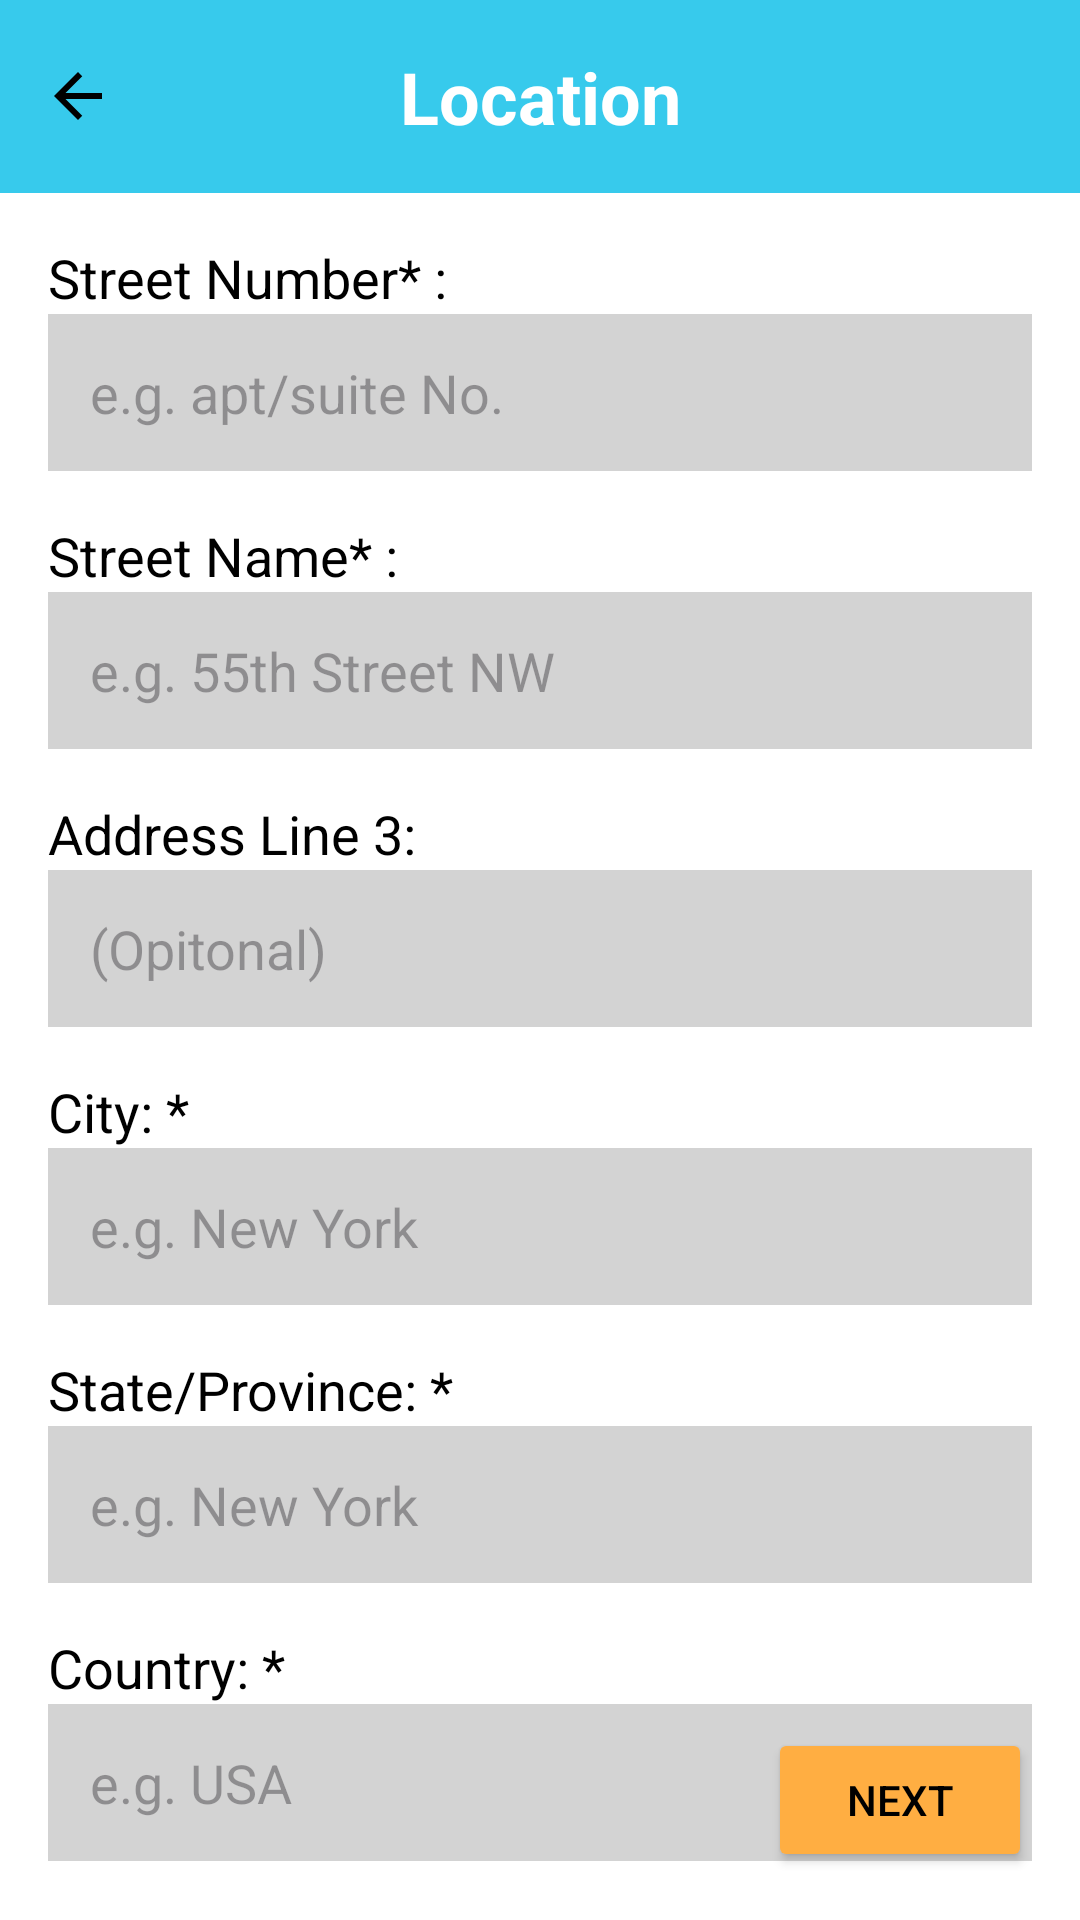

Named icons in this screenshot (1080 × 1920) and their centers, (x,y):
go back to previous page: (78,96)
